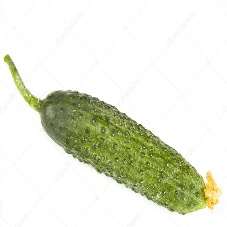cucumber: (40, 89, 216, 221)
